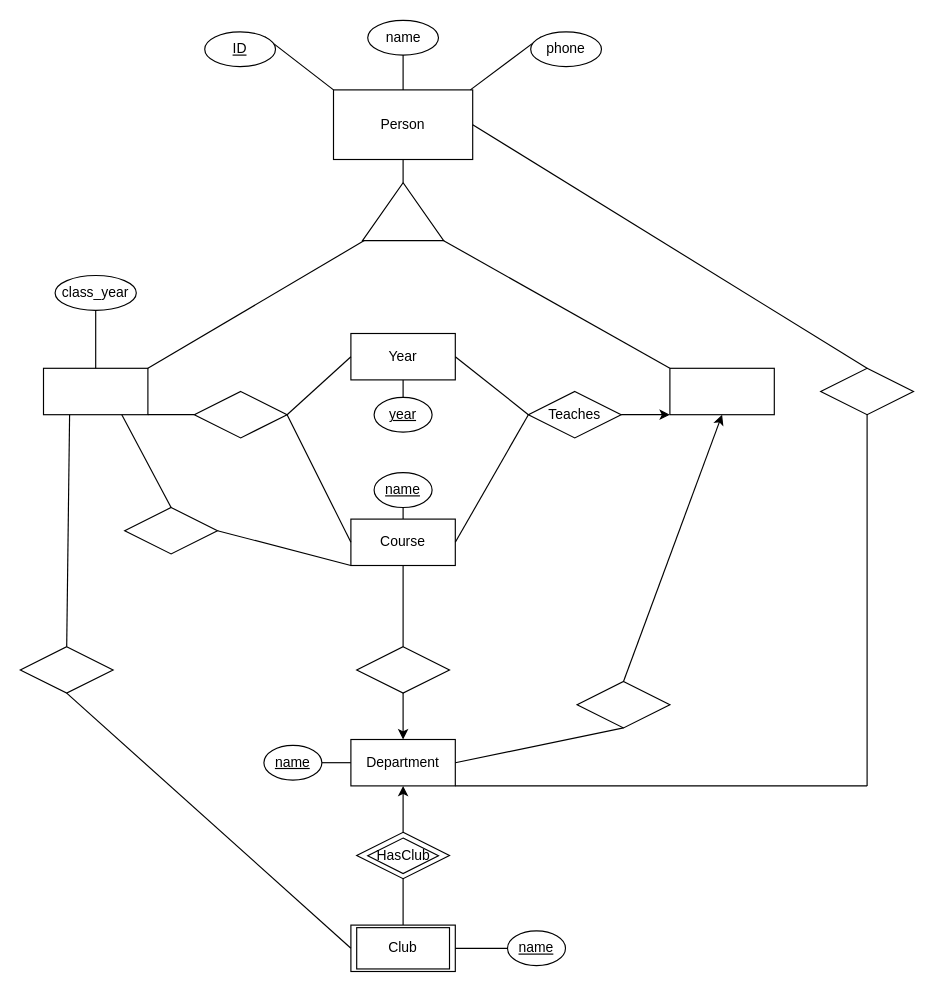
Image size: 934x992. Some labels were removed from this diagram. The centre of each missing label's shape, as x and y in pixels:
"BelongsTo" goes at (866,391).
"Favourite" goes at (170,530).
"heads" goes at (623,704).
"ISA" goes at (402,211).
"MemberOf" goes at (66,669).
"Offers" goes at (402,669).
"Student" goes at (95,391).
"Studies" goes at (240,414).
"Teacher" goes at (721,391).
